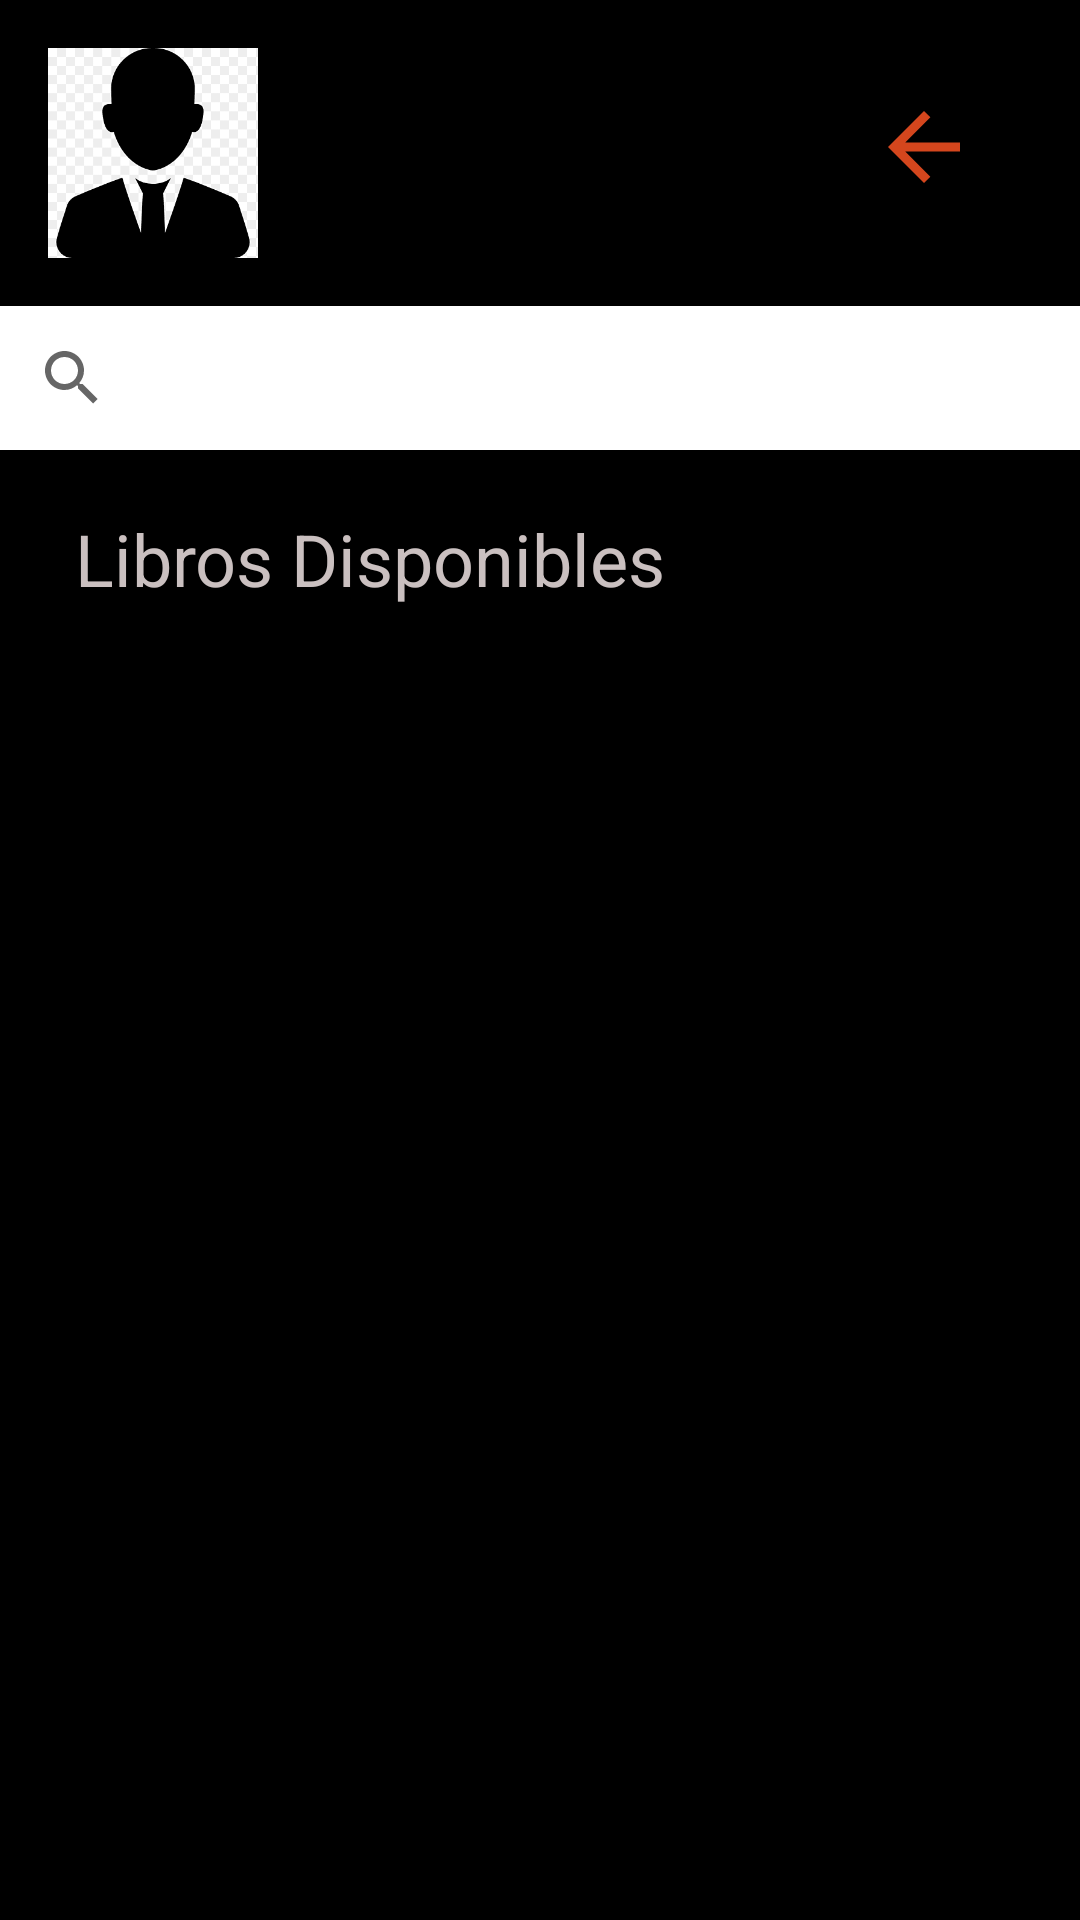

Icons on this 1080*1920 Android screen, each with its box as bbox=[x1, y1, x2, y2]:
admin: bbox=[48, 48, 258, 258]
back flecha: bbox=[888, 111, 960, 183]
